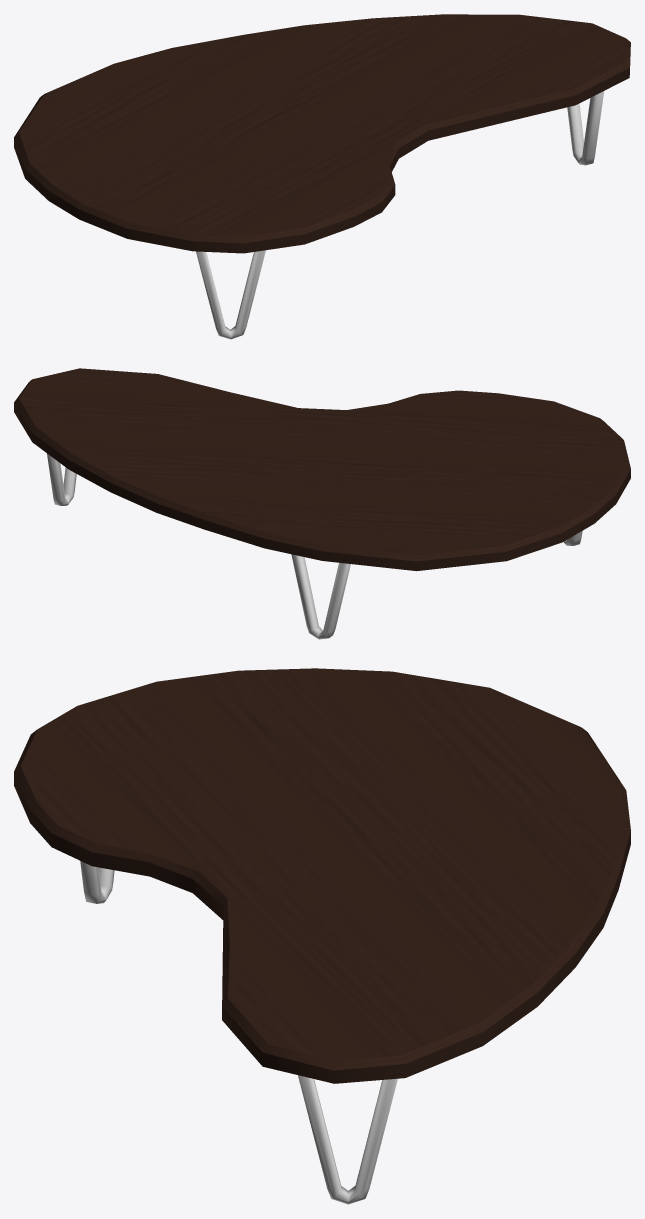
The model's file is Kidney_Table_06.FBX.
3 views of the same model, one above another, from view 1: azimuth 30°, elevation 25°; view 2: azimuth 150°, elevation 25°; view 3: azimuth 270°, elevation 25° (orthographic). The views are drawn at different scales.
Parts seen in each view (by area): view 1: Kidney_Bean_Table; view 2: Kidney_Bean_Table; view 3: Kidney_Bean_Table.
Part boxes in pixels (<box>): Kidney_Bean_Table: <box>14,14,630,339</box>; Kidney_Bean_Table: <box>14,368,630,639</box>; Kidney_Bean_Table: <box>14,668,630,1204</box>.
Bounding box in the file's own units: 396 × 76.96 × 259.
